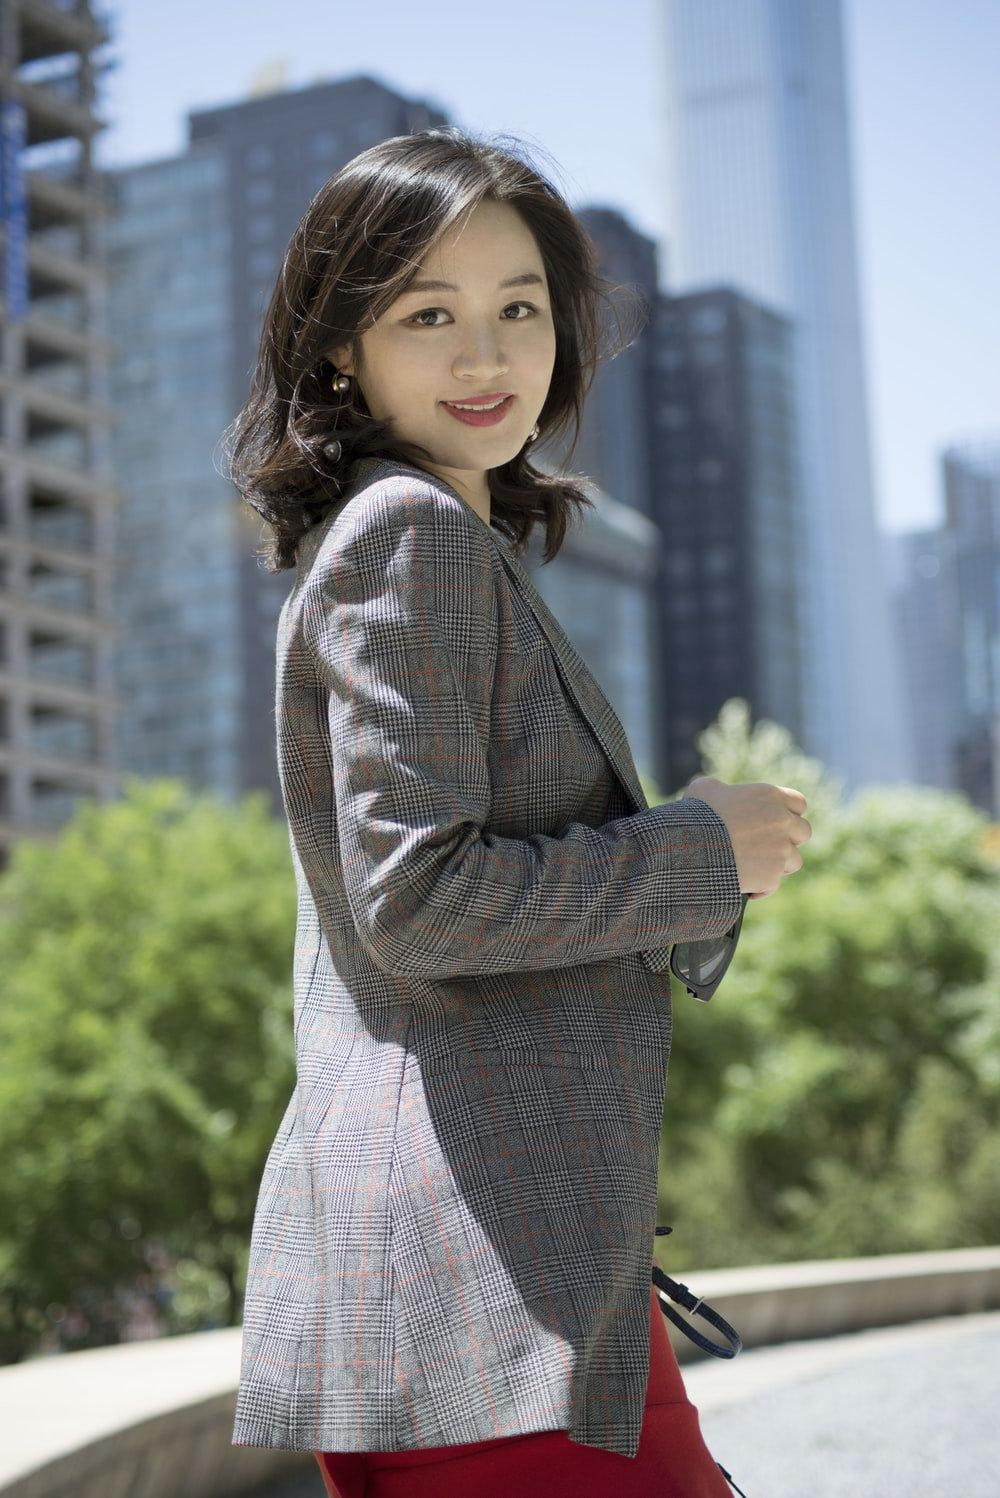Sober: (358, 224, 555, 451)
